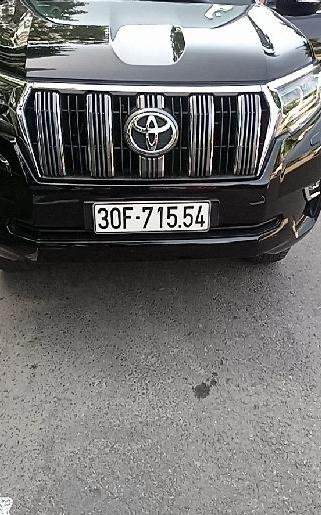Plate-iWeP: (96, 201, 210, 233)
